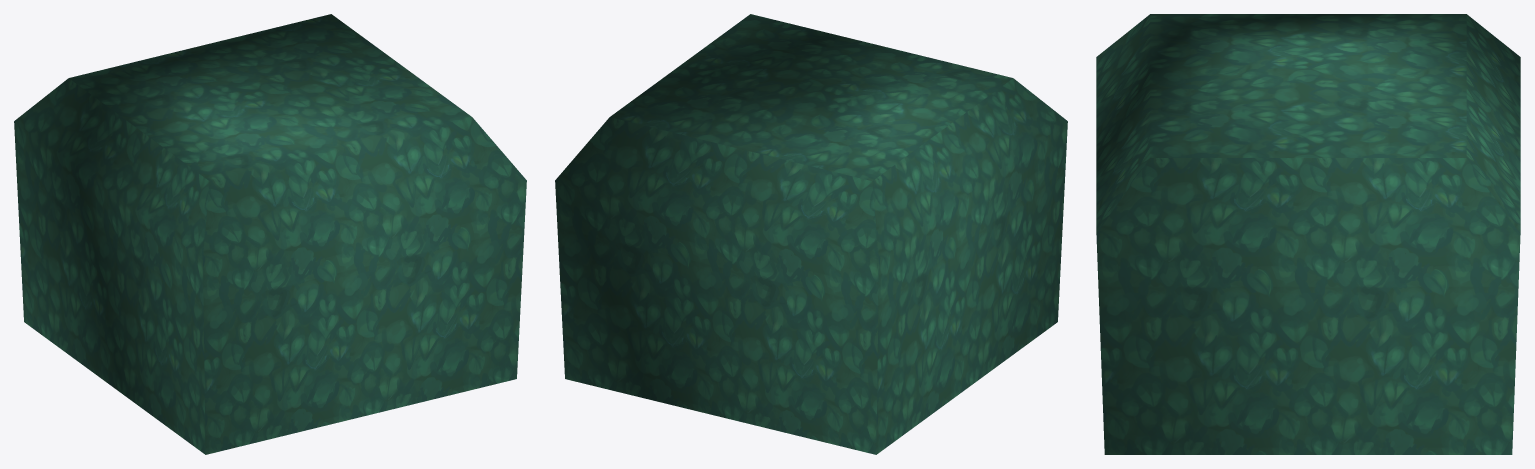
File: Treetop_med.fbx
3 views of the same model, side by side, from view 1: azimuth 30°, elevation 25°; view 2: azimuth 150°, elevation 25°; view 3: azimuth 270°, elevation 25° (orthographic). The views are drawn at different scales.
Visible parts, largest first — view 1: Treetop_Med; view 2: Treetop_Med; view 3: Treetop_Med.
Boxes of the visible parts, x1,y1,x2,y2 form: Treetop_Med: (14, 14, 526, 454); Treetop_Med: (555, 14, 1067, 454); Treetop_Med: (1096, 14, 1520, 454).
Bounding box in the file's own units: 7.43 × 5.78 × 7.5.
